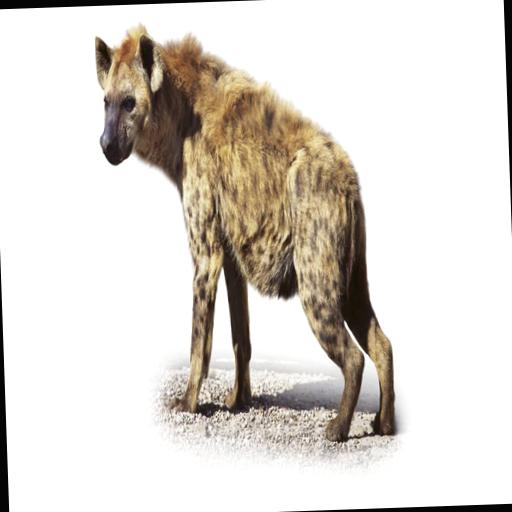hyenas: (59, 5, 490, 512)
